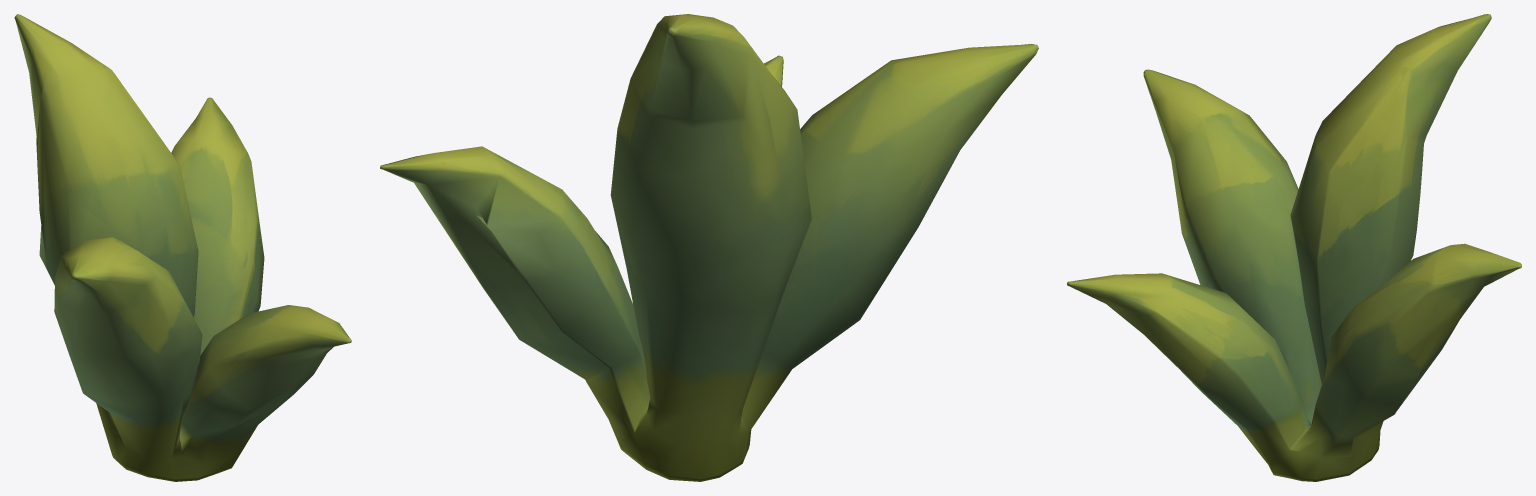
File: grass-tuft.glb
The picture shows the model from 3 angles, left to right: view 1: azimuth 30°, elevation 25°; view 2: azimuth 150°, elevation 25°; view 3: azimuth 270°, elevation 25°; orthographic projection. The views are drawn at different scales.
Parts seen in each view (by area): view 1: tripo_node_80d7bffb-bbcb-4cd7-9230-5eca0fe9de49; view 2: tripo_node_80d7bffb-bbcb-4cd7-9230-5eca0fe9de49; view 3: tripo_node_80d7bffb-bbcb-4cd7-9230-5eca0fe9de49.
Boxes of the visible parts, x1,y1,x2,y2 form: tripo_node_80d7bffb-bbcb-4cd7-9230-5eca0fe9de49: (14,14,351,481); tripo_node_80d7bffb-bbcb-4cd7-9230-5eca0fe9de49: (380,14,1038,481); tripo_node_80d7bffb-bbcb-4cd7-9230-5eca0fe9de49: (1067,14,1521,481).
Size of the model in its own units: 0.2525 by 0.3 by 0.3036.
Materials: 1 (1 with a texture image).
